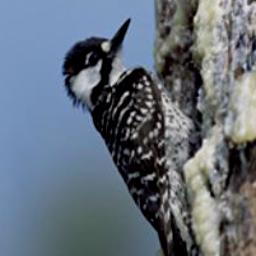Woodpecker: (61, 9, 239, 256)
